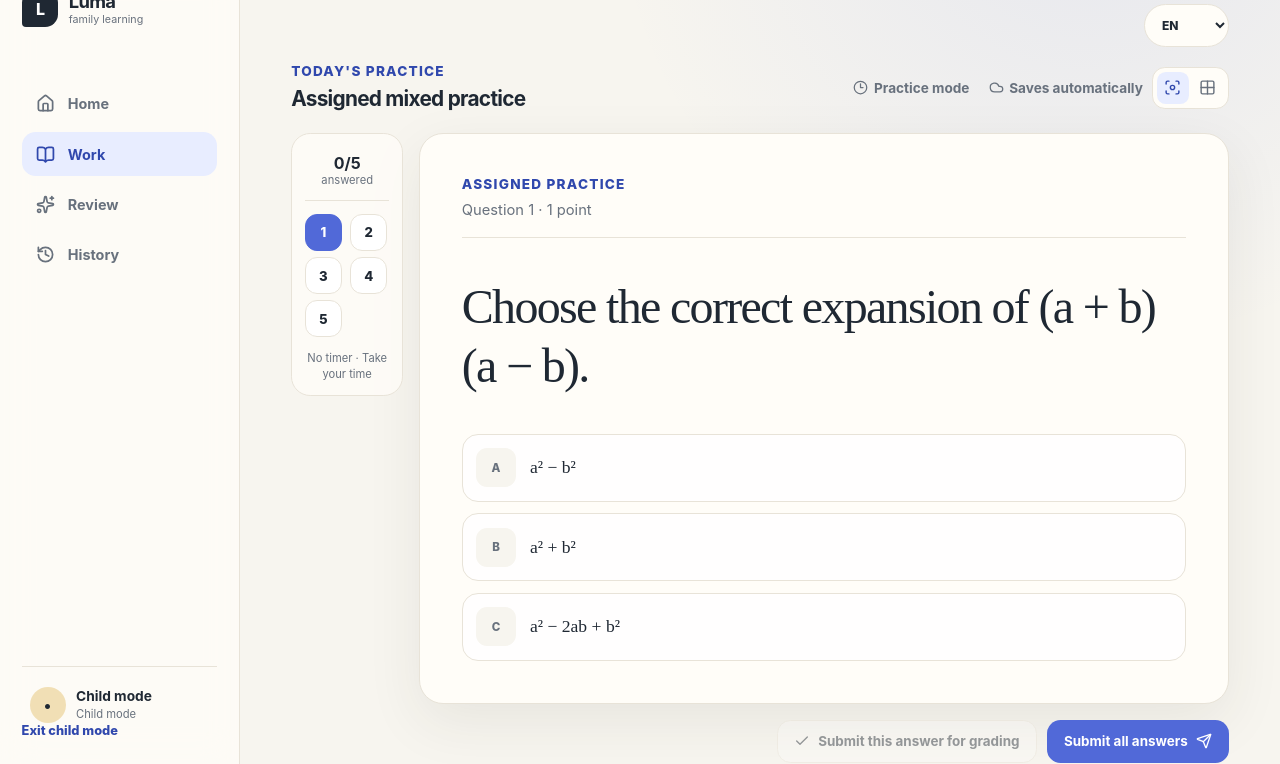
Scenario: WorksheetWorkbench › submits only the current answer and keeps the rest of the attempt open
The image size is (1280, 764).
Click the radio button labelled "a² − b²". click: coordinates (496, 468)
box: x1=462 y1=434 x2=1186 y2=502
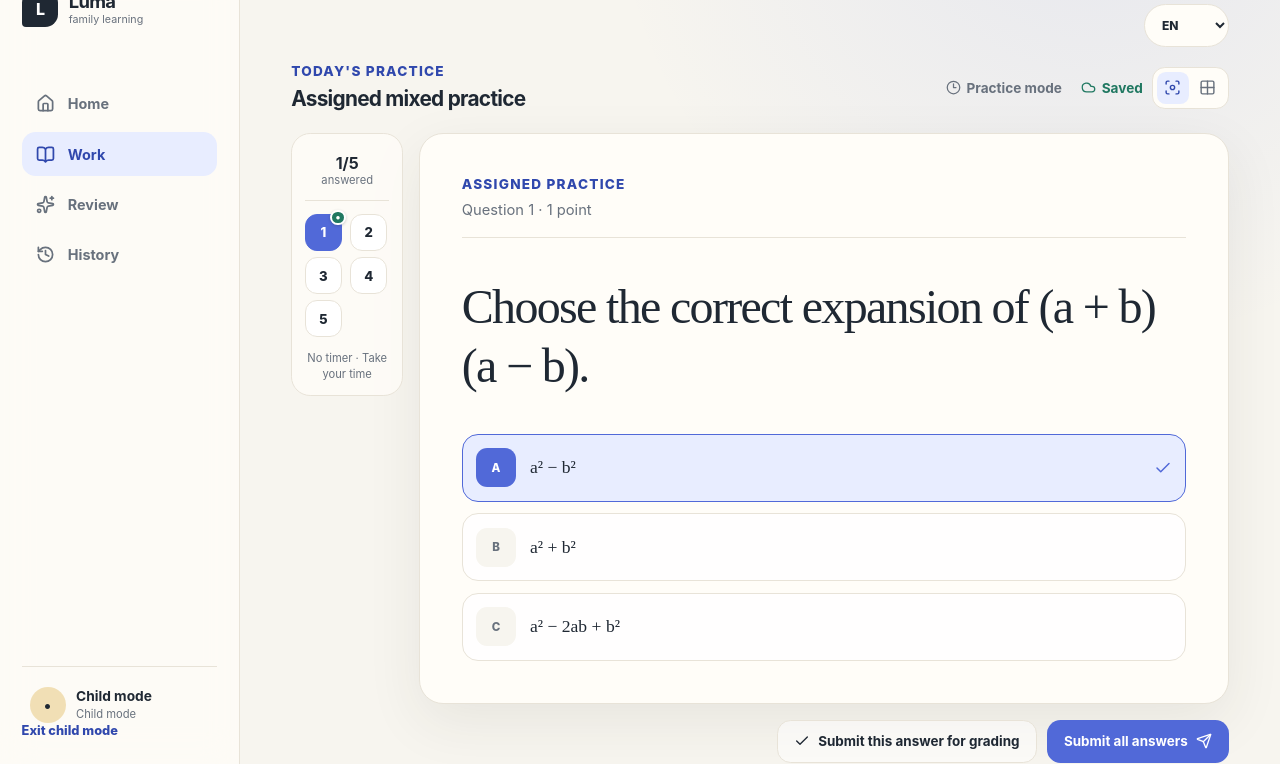
Expected: the text "Saved" is shown, x1=1081 y1=80 x2=1143 y2=96
Click the button "Submit this answer for grading". click: coordinates (907, 741)
box: x1=777 y1=720 x2=1037 y2=763
(page scrolled)
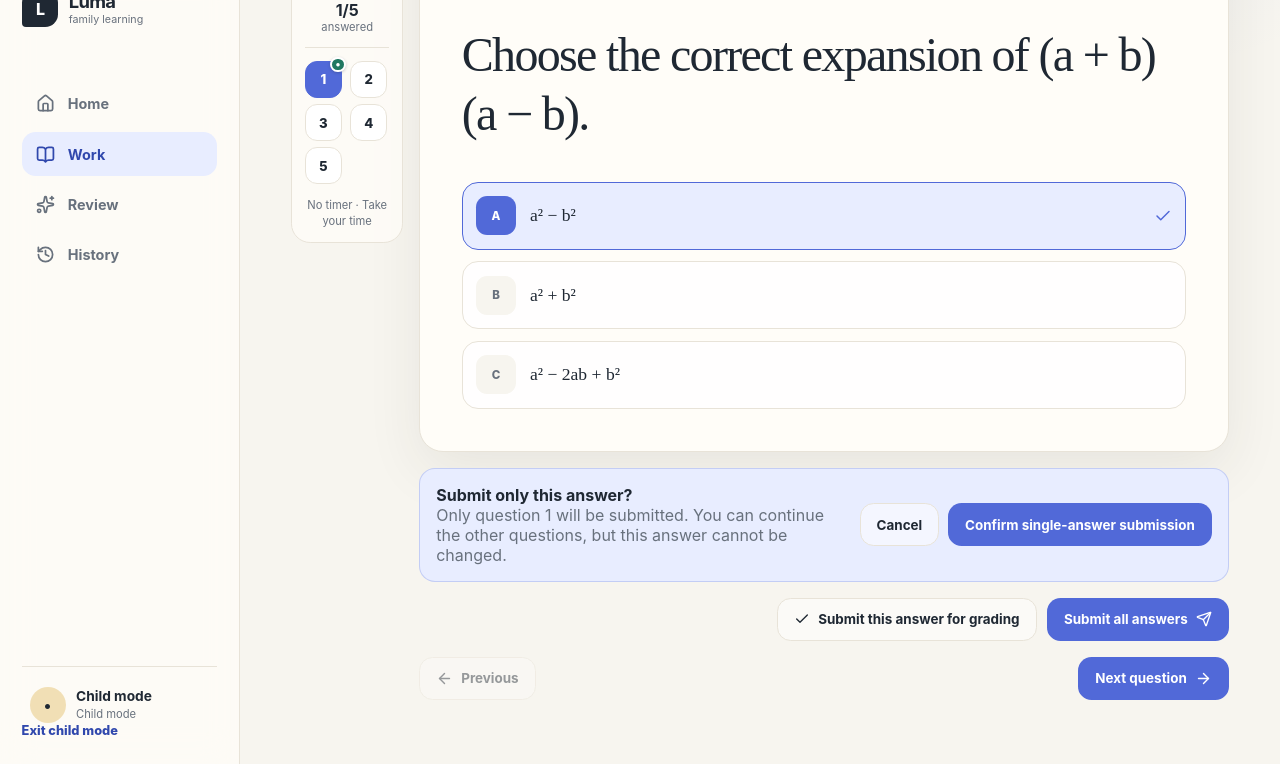
Expected: the text "Only question 1 will be submitted. You can continue the other questions, but this answer cannot be changed." is shown, x1=436 y1=505 x2=824 y2=565
Click the button "Confirm single-answer submission". click: coordinates (1080, 525)
box: x1=948 y1=503 x2=1212 y2=546
(page scrolled)
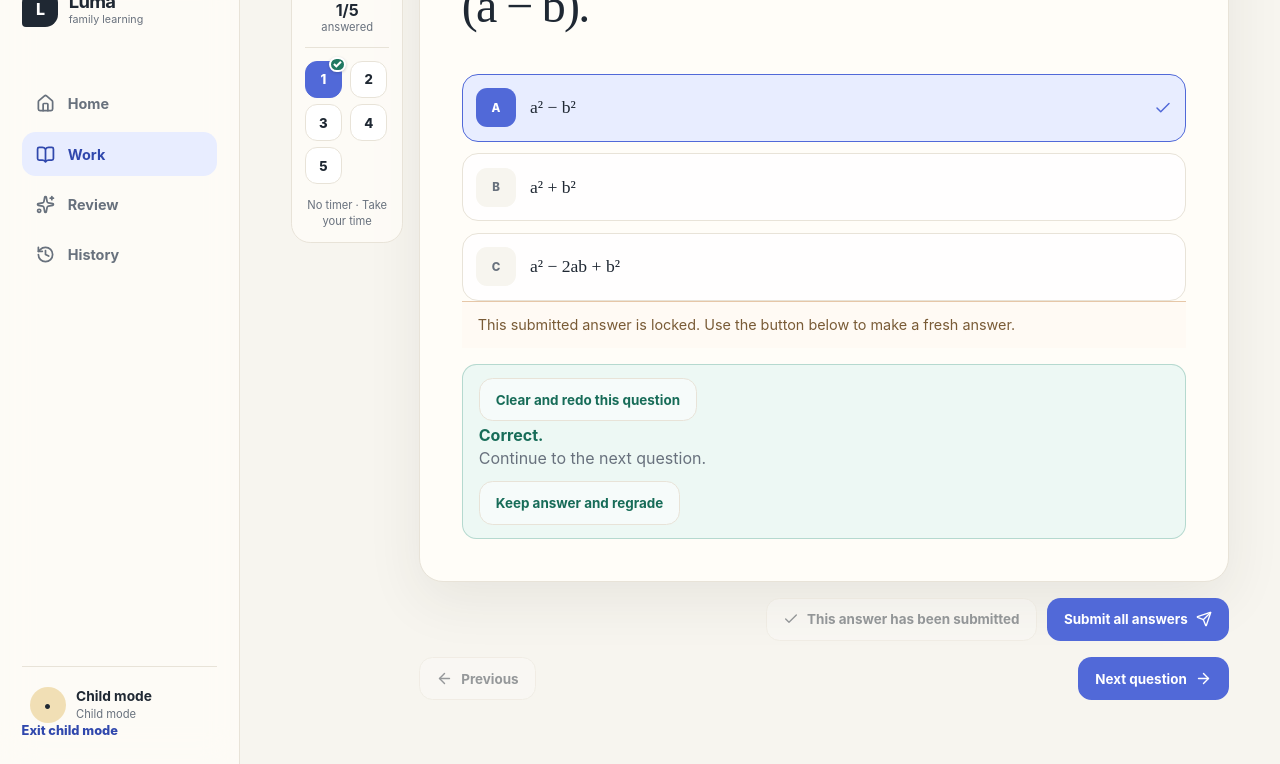
Expected: the text "Correct." is shown, x1=479 y1=425 x2=543 y2=445
Expected: the button "This answer has been submitted" is disabled, x1=766 y1=598 x2=1037 y2=641
Click the button "Next question". click: coordinates (1154, 678)
box: x1=1078 y1=657 x2=1229 y2=700
(page scrolled)
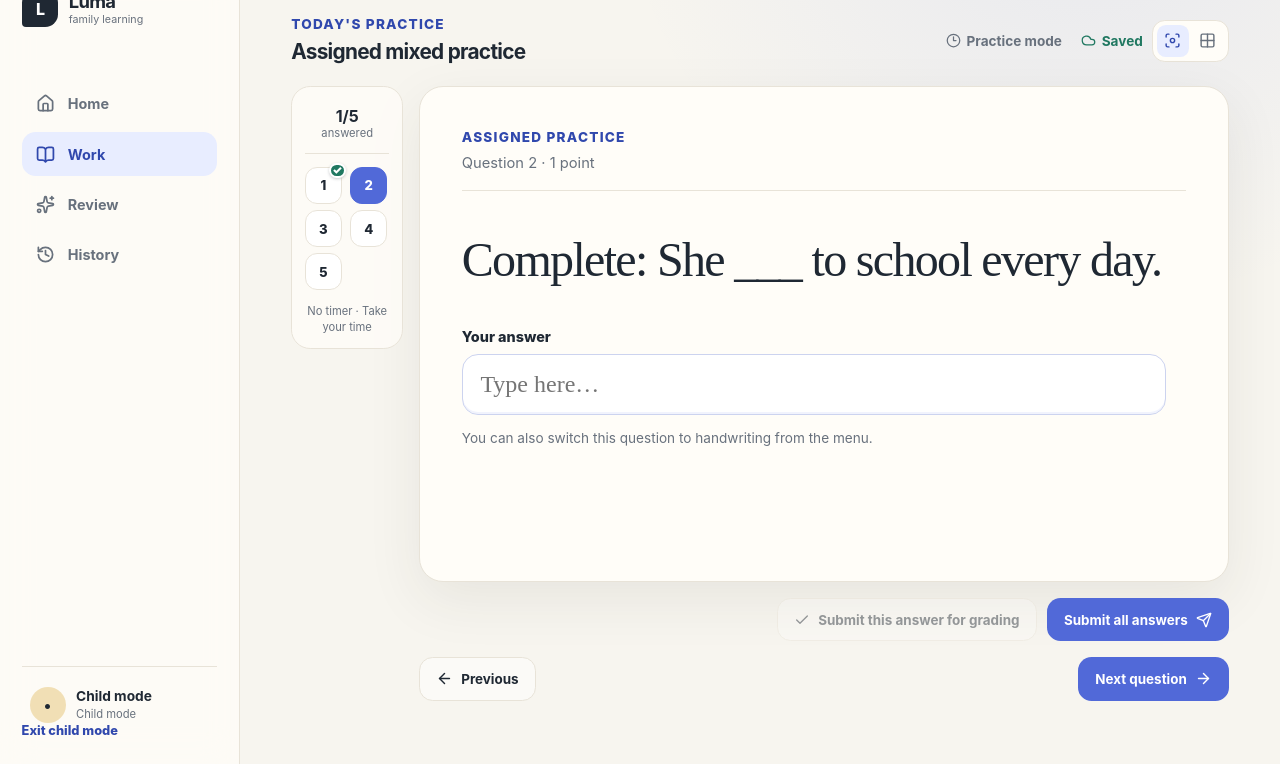
Expected: the heading "Complete: She ___ to school every day." is shown, x1=462 y1=231 x2=1186 y2=290
